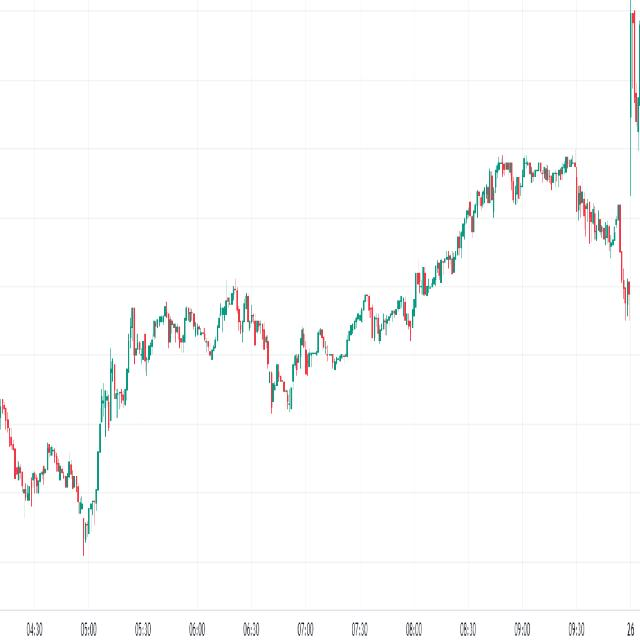Rounding-Top: (97, 263, 274, 425)
